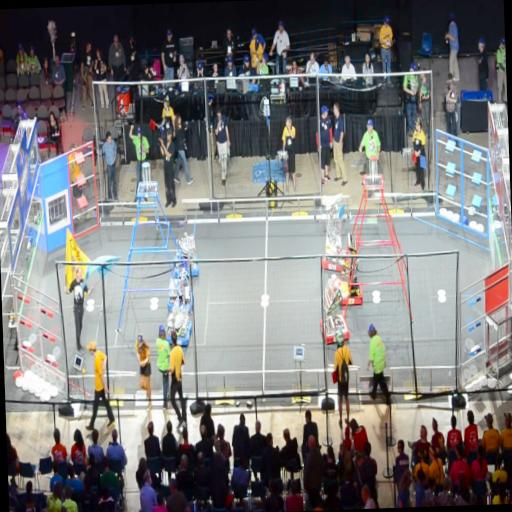robot: (320, 192, 350, 274), (317, 274, 351, 346), (333, 232, 365, 306), (161, 295, 193, 349), (164, 268, 194, 311), (173, 234, 200, 278)
